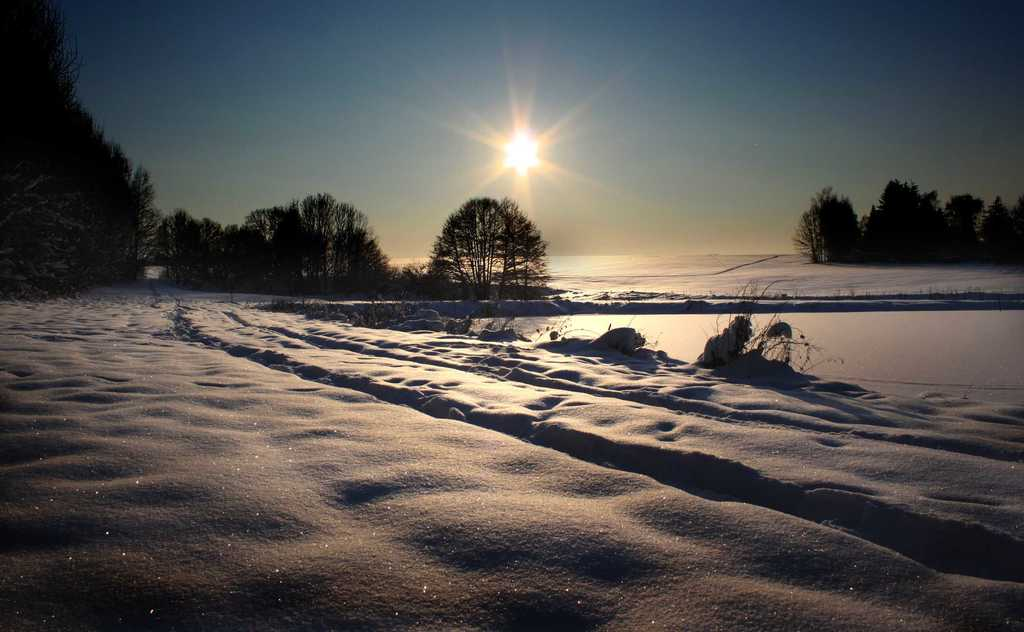Tree: (0, 0, 162, 294), (428, 194, 549, 314), (293, 189, 387, 294), (236, 202, 311, 291), (862, 182, 944, 261), (804, 171, 874, 256), (157, 205, 209, 287), (943, 189, 986, 260), (204, 216, 243, 289), (984, 194, 1023, 266), (393, 257, 437, 296)
